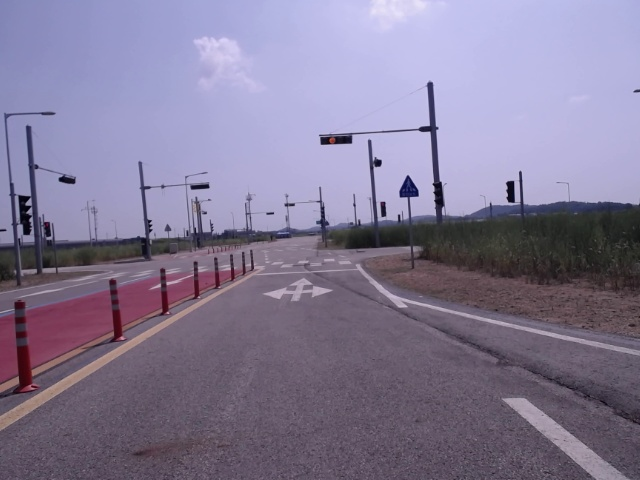orange_4: (319, 134, 354, 146)
